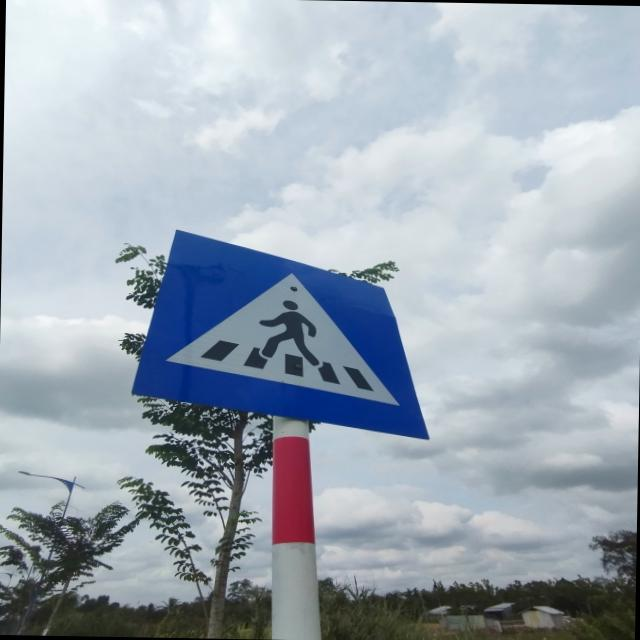Giao_Nhau_Duong_Uu_Tien: (130, 227, 432, 438)
